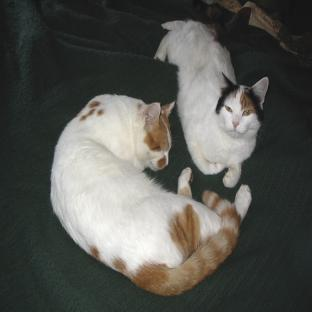Animal: (51, 94, 251, 295), (154, 20, 268, 187)
